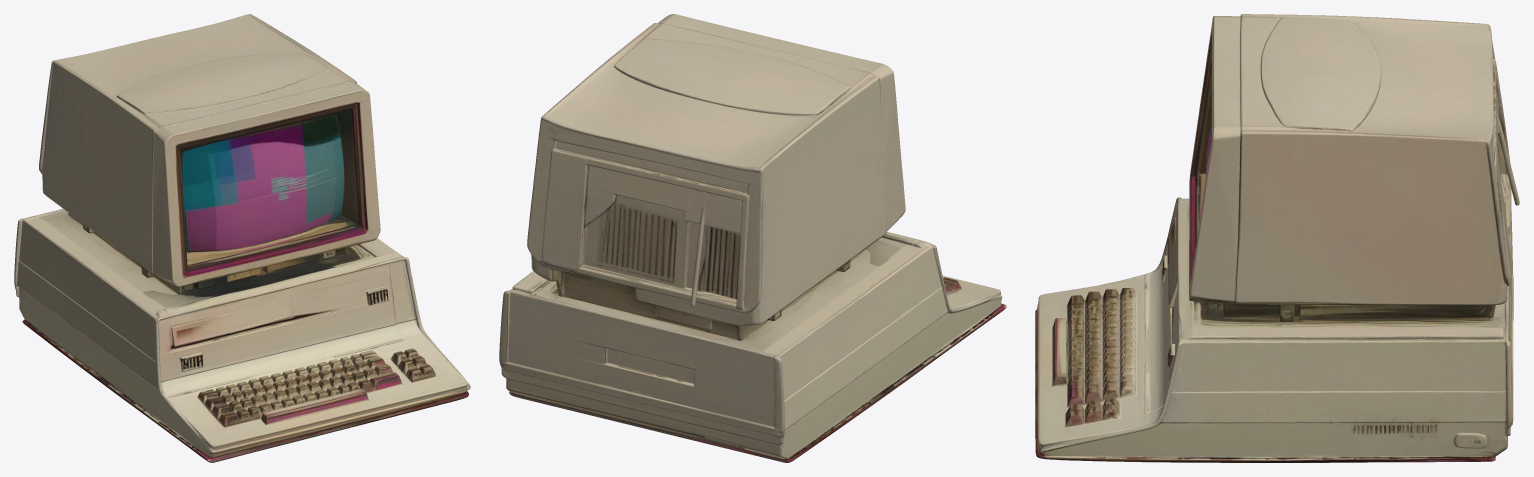
The model's file is crt-monitor.glb.
The picture shows the model from 3 angles, left to right: view 1: azimuth 30°, elevation 25°; view 2: azimuth 150°, elevation 25°; view 3: azimuth 270°, elevation 25°; orthographic projection. The views are drawn at different scales.
Visible parts, largest first — view 1: Object_4; view 2: Object_4; view 3: Object_4.
Part boxes in pixels (box(x1,y1,x2,y2)): Object_4: box(14, 14, 470, 462); Object_4: box(499, 14, 1006, 462); Object_4: box(1035, 14, 1519, 462).
Bounding box in the file's own units: 0.6344 × 0.6121 × 0.8393.
Materials: 1 (1 with a texture image).
